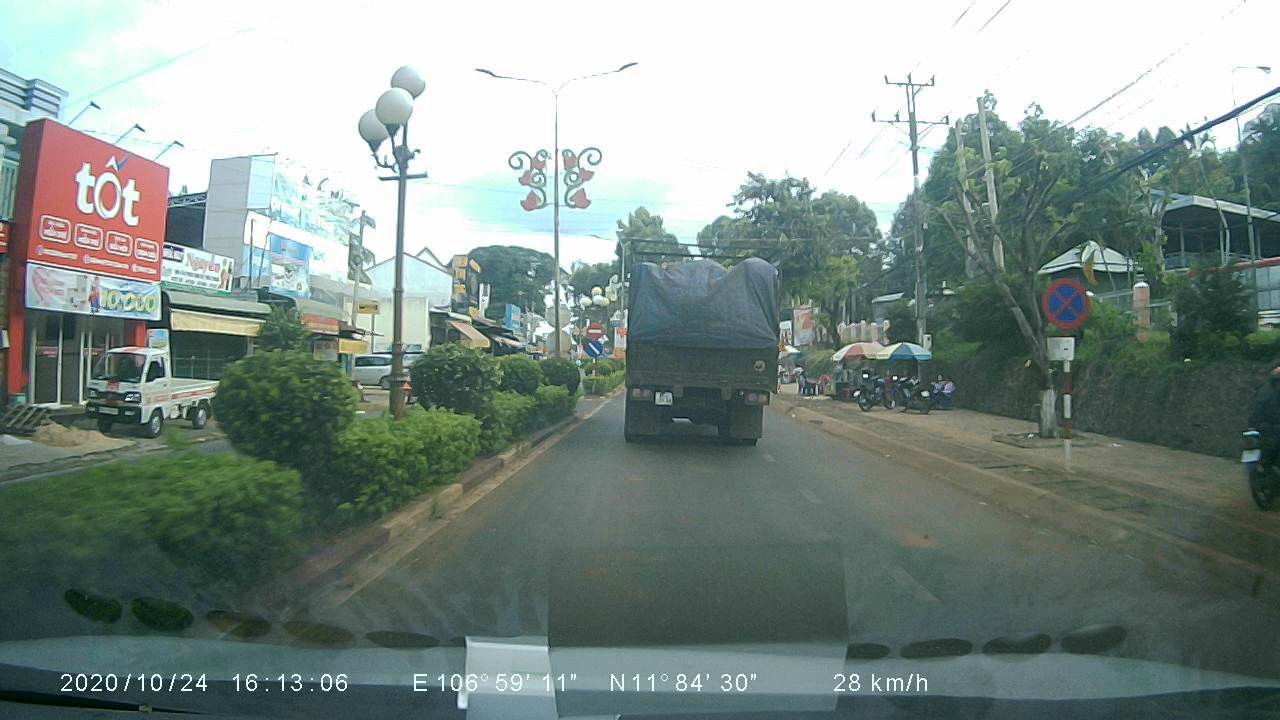Bien khac: (1038, 273, 1094, 329)
